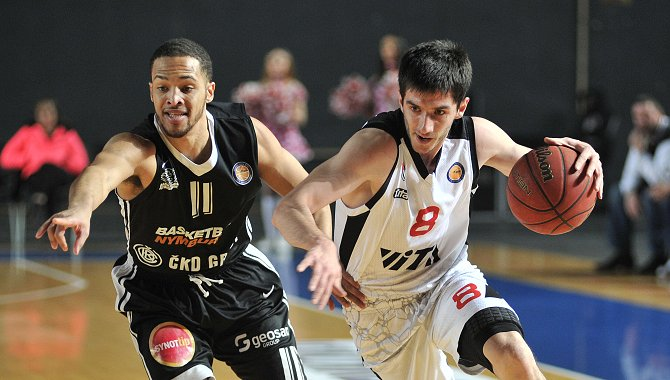ball: (499, 137, 609, 238)
breakthrough: (279, 21, 618, 380)
defense: (41, 31, 320, 380)
